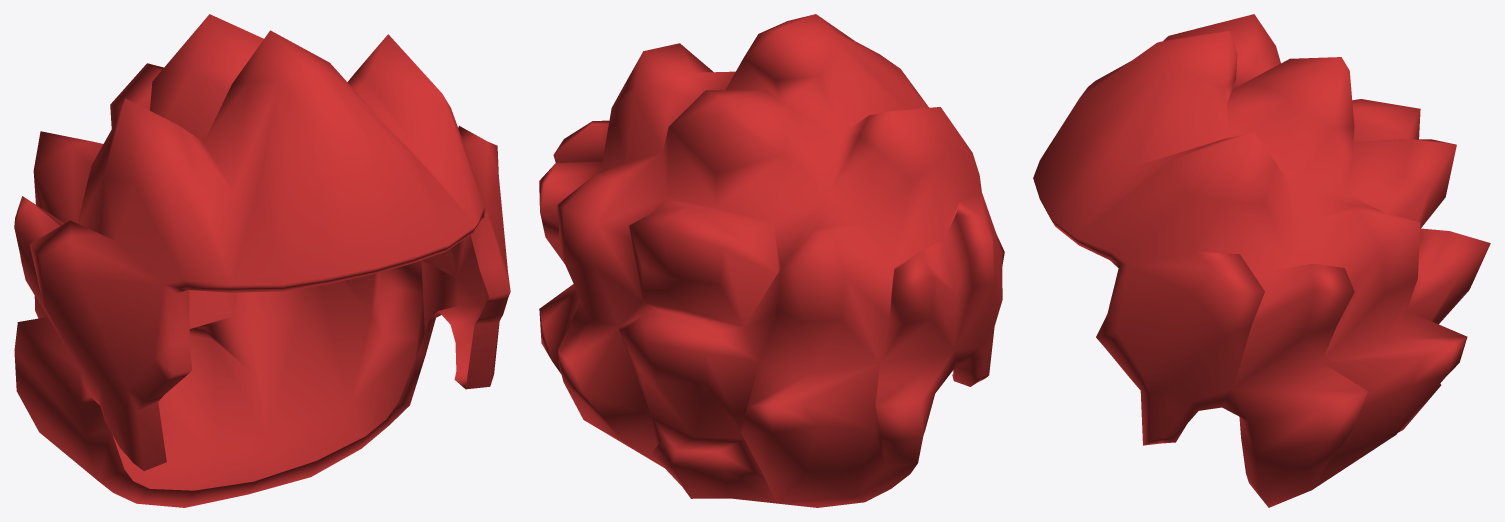
File: Hair_Red_16.fbx
3 views of the same model, side by side, from view 1: azimuth 30°, elevation 25°; view 2: azimuth 150°, elevation 25°; view 3: azimuth 270°, elevation 25° (orthographic). The views are drawn at different scales.
Parts seen in each view (by area): view 1: Hair_Red_16; view 2: Hair_Red_16; view 3: Hair_Red_16.
Part boxes in pixels (bbox=[...]): Hair_Red_16: bbox=[14, 14, 510, 507]; Hair_Red_16: bbox=[539, 14, 1004, 507]; Hair_Red_16: bbox=[1033, 14, 1490, 507].
Size of the model in its own units: 62.42 by 62.7 by 58.65.
